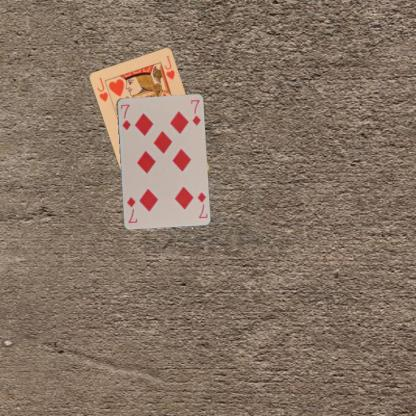7d: (118, 102, 132, 131), (195, 190, 208, 219)
Jh: (95, 75, 110, 103)
